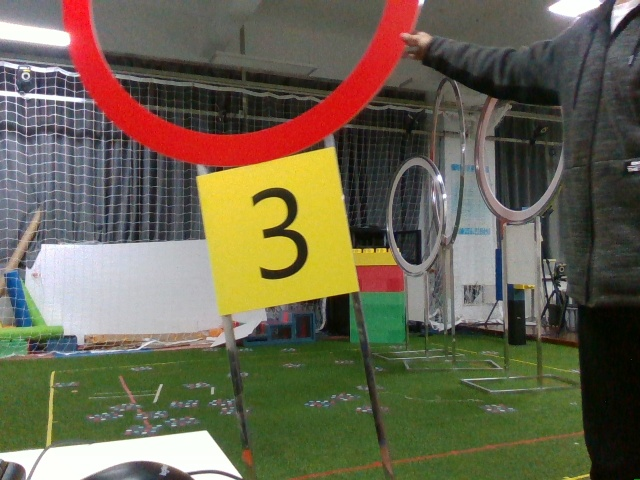target: (211, 173, 343, 294)
